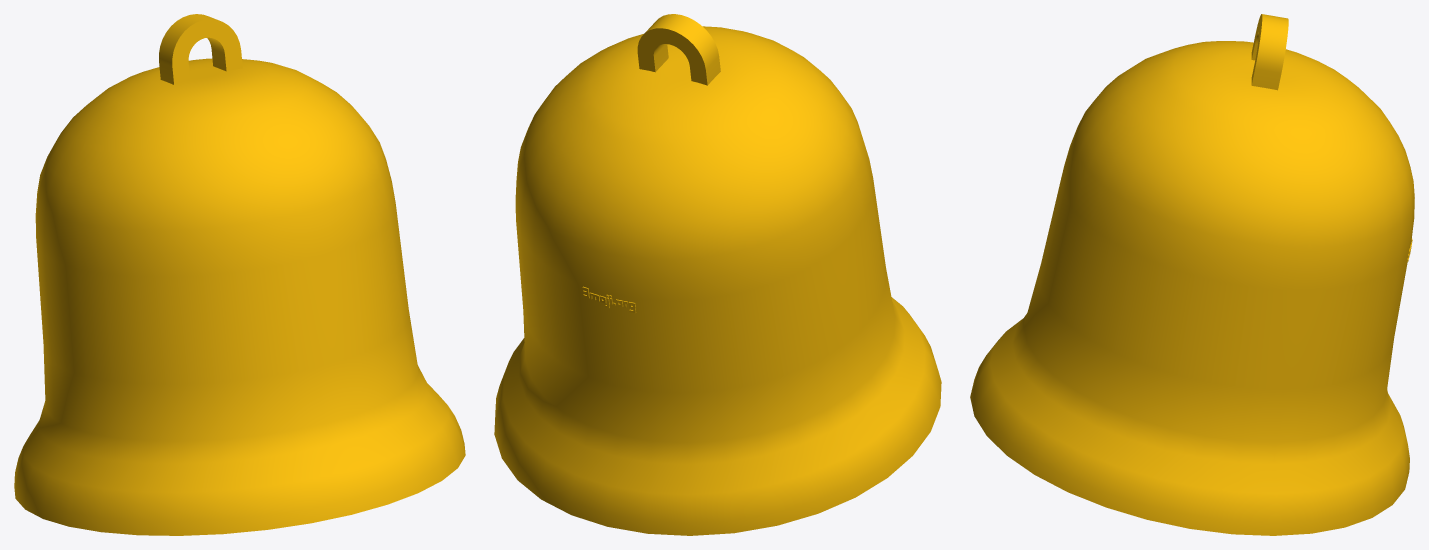
The model's file is bell.fbx.
The picture shows the model from 3 angles, left to right: view 1: azimuth 30°, elevation 25°; view 2: azimuth 150°, elevation 25°; view 3: azimuth 270°, elevation 25°; orthographic projection.
Visible parts, largest first — view 1: Cylinder.491; view 2: Cylinder.491; view 3: Cylinder.491.
Part boxes in pixels (left/top/right/bottom): Cylinder.491: left=14, top=14, right=465, bottom=535; Cylinder.491: left=494, top=14, right=941, bottom=535; Cylinder.491: left=970, top=14, right=1414, bottom=535.
Size of the model in its own units: 199 by 223 by 198.
1 material, 1 textured.
